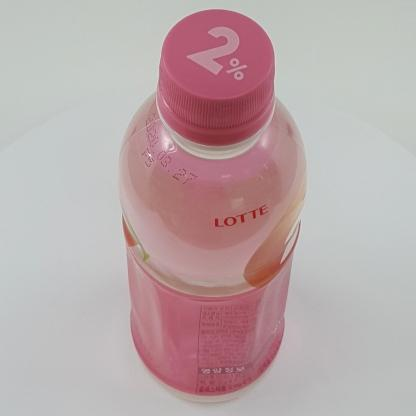--2_---350ML: (117, 8, 307, 404)
